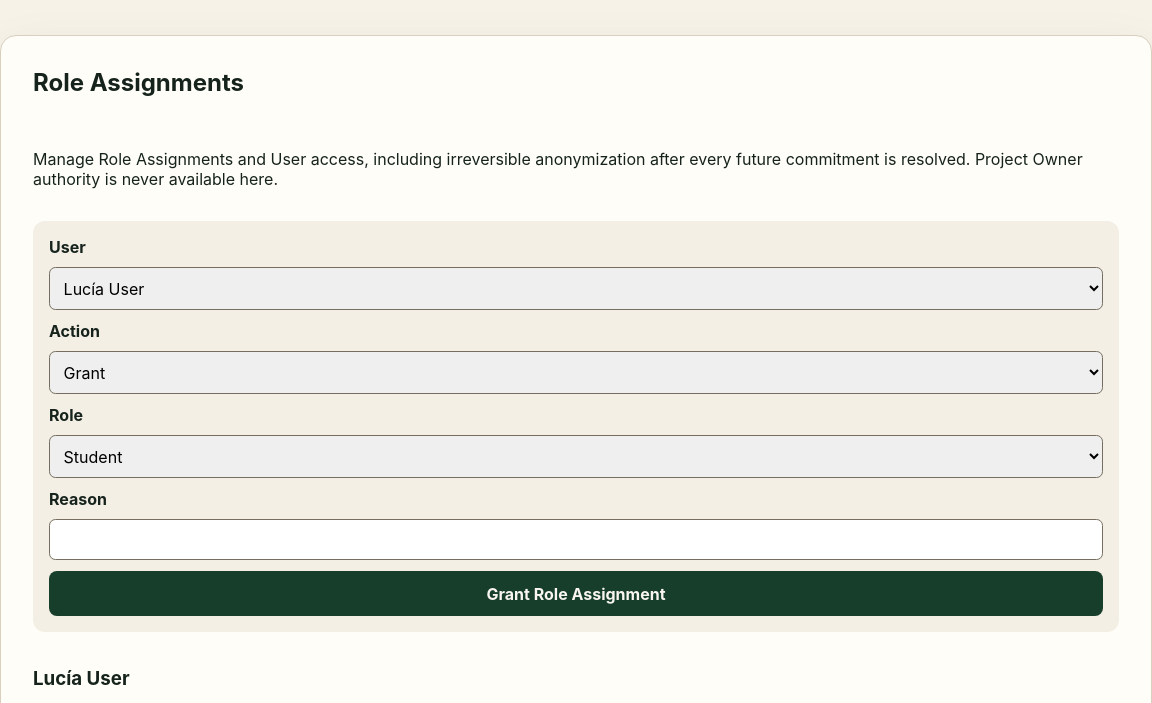
Test: Role Assignment administration › suspends a User with a visible reason while keeping assigned roles visible
The width and height of the screenshot is (1152, 703).
Check: the heading "Role Assignments" is shown, box [33, 68, 244, 97]
Select "Suspend" in the dropdown labelled "Action" at (576, 373), box [49, 351, 1103, 394]
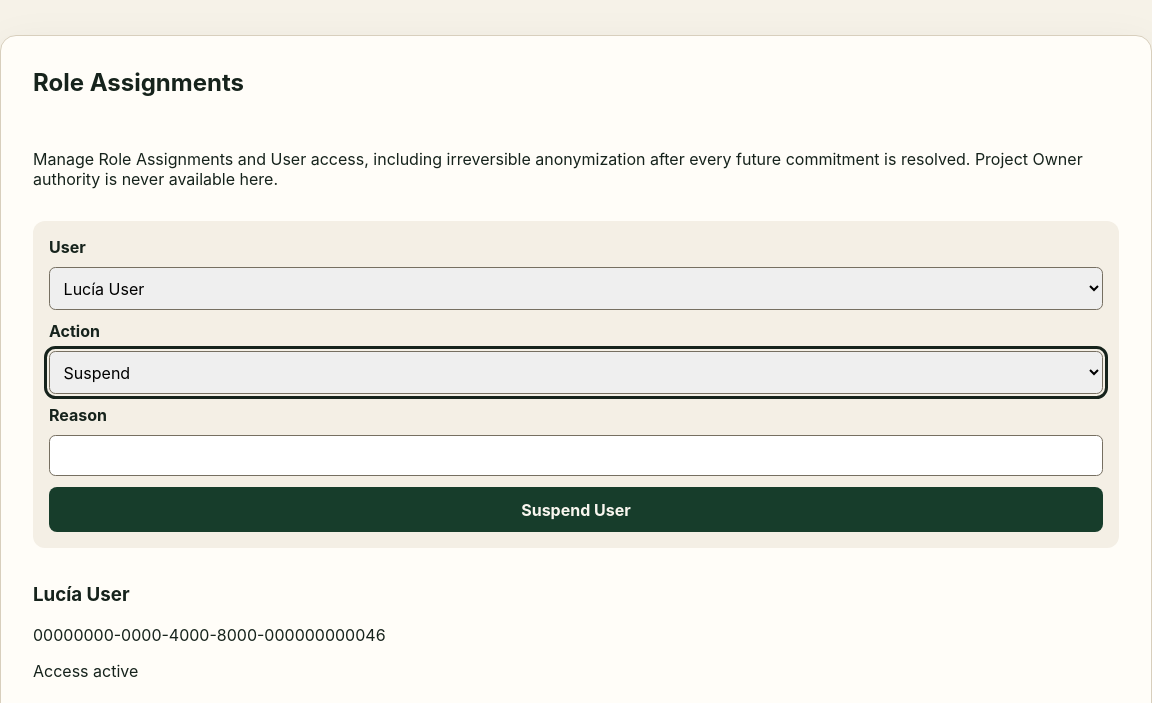
Type "Security review in progress" into the field labelled "Reason" at (576, 456), box [49, 435, 1103, 476]
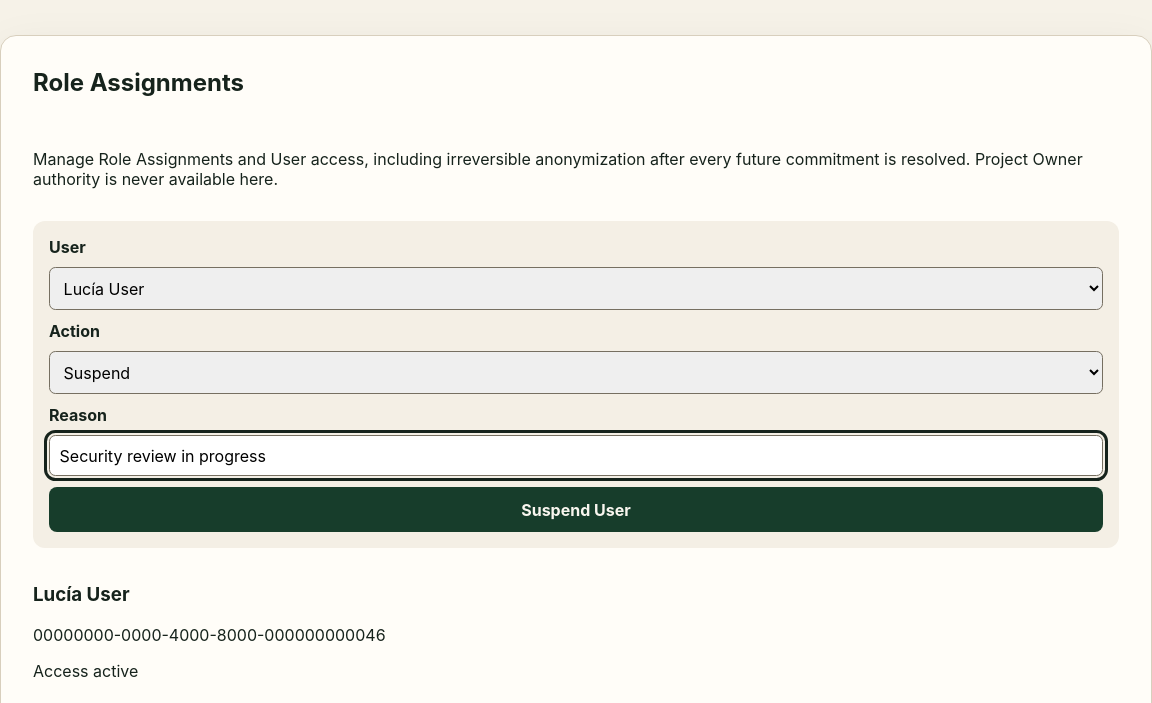
Click the button "Suspend User" at (576, 510), box [49, 487, 1103, 532]
(page scrolled)
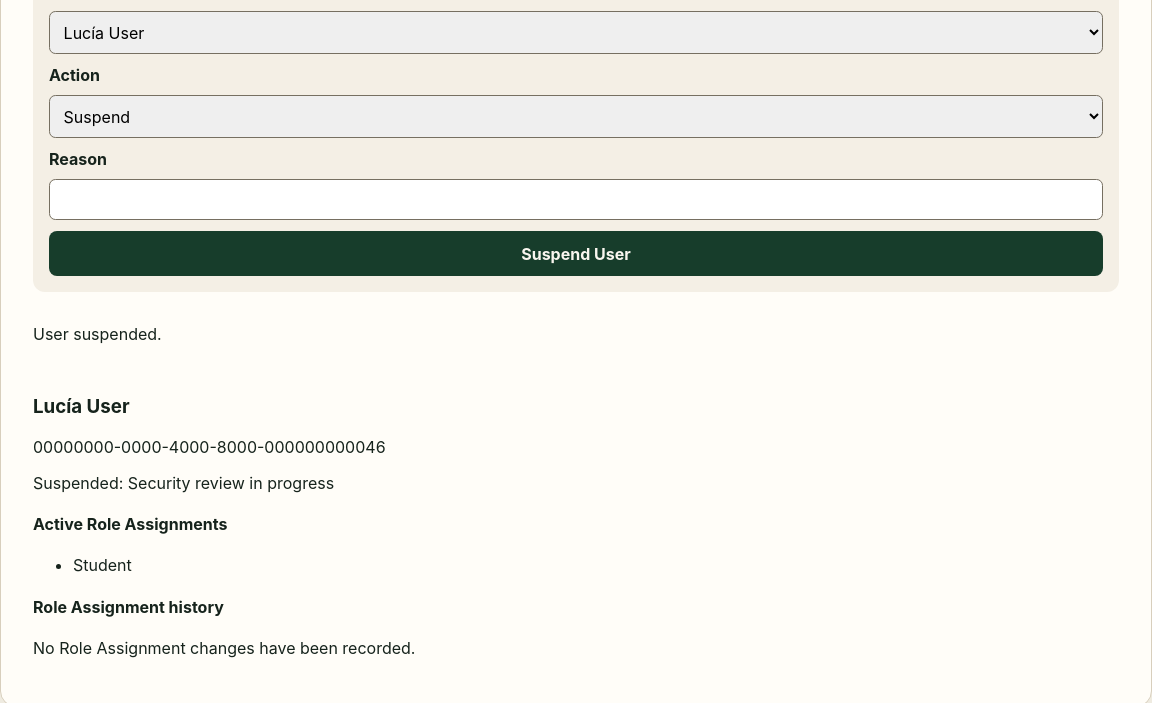
Check: the message reads "User suspended.", box [33, 324, 162, 344]
Check: the text "Suspended: Security review in progress" is shown, box [33, 473, 334, 493]
